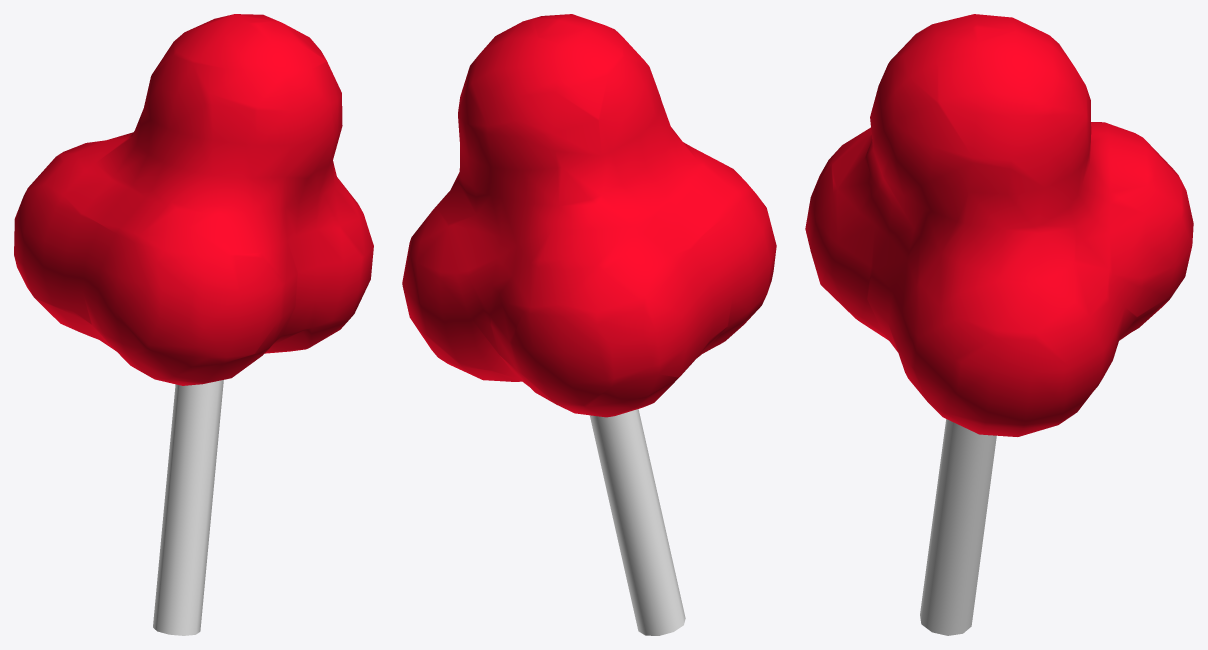
The model's file is tree.glb.
3 renders of one model, left to right at view 1: azimuth 30°, elevation 25°; view 2: azimuth 150°, elevation 25°; view 3: azimuth 270°, elevation 25°, orthographic. The views are drawn at different scales.
Visible parts, largest first — view 1: Cylinder.033; view 2: Cylinder.033; view 3: Cylinder.033.
Part boxes in pixels (x1,y1,x2,y2): Cylinder.033: (14, 14, 373, 635); Cylinder.033: (402, 14, 776, 635); Cylinder.033: (805, 14, 1193, 635).
Size of the model in its own units: 0.7271 by 1.34 by 0.73.
